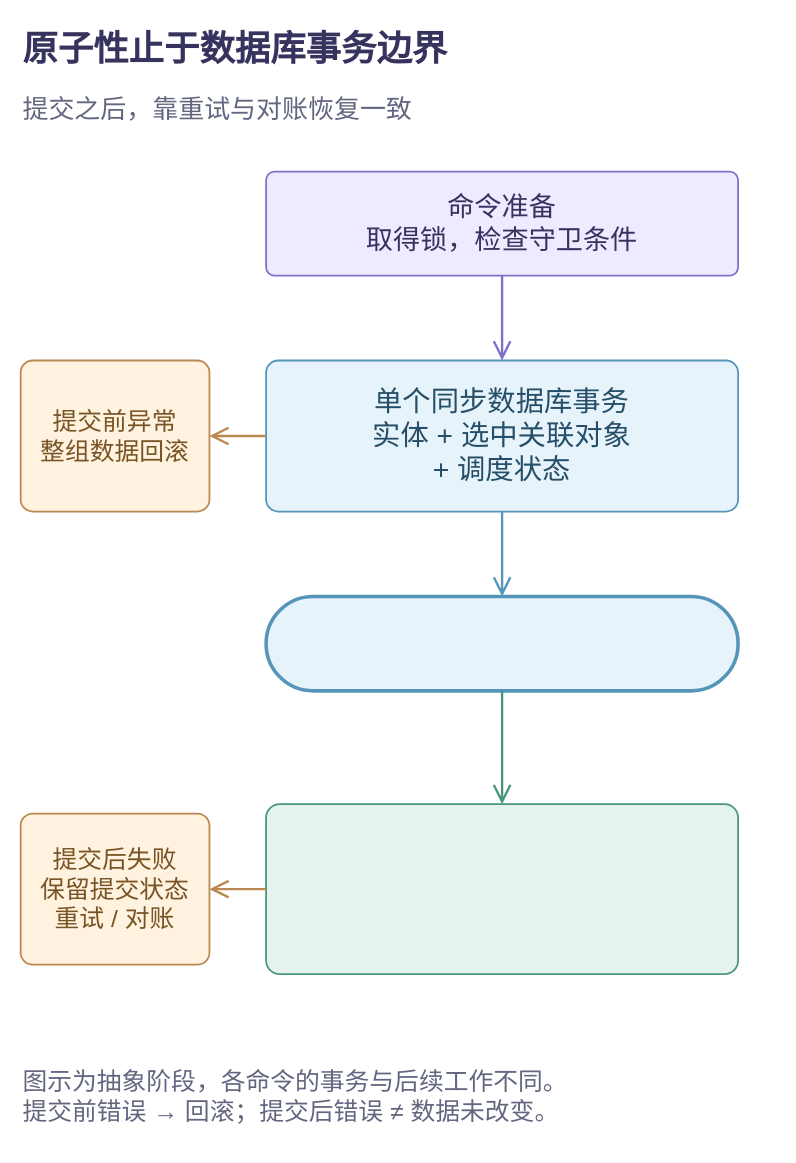
Image size: 796x1163. Some labels were removed from this diagram. Here are the shapes that lost their labels. From the top down, the box of each, then its label:
(264, 594, 739, 692): COMMIT · 业务状态生效
(265, 803, 738, 974): 提交后的资源同步与清理 运行时 / 定时器 / 通知 / 磁盘 按具体命令执行
